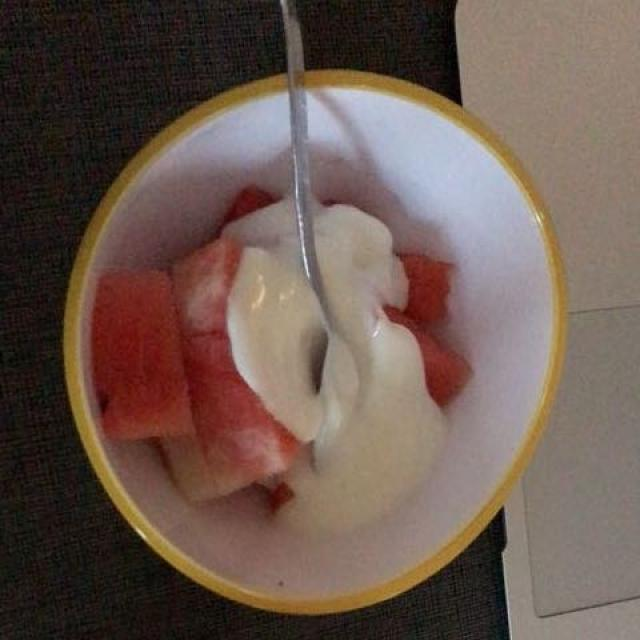watermelon: (102, 174, 473, 498)
yogurt: (226, 200, 454, 530)
